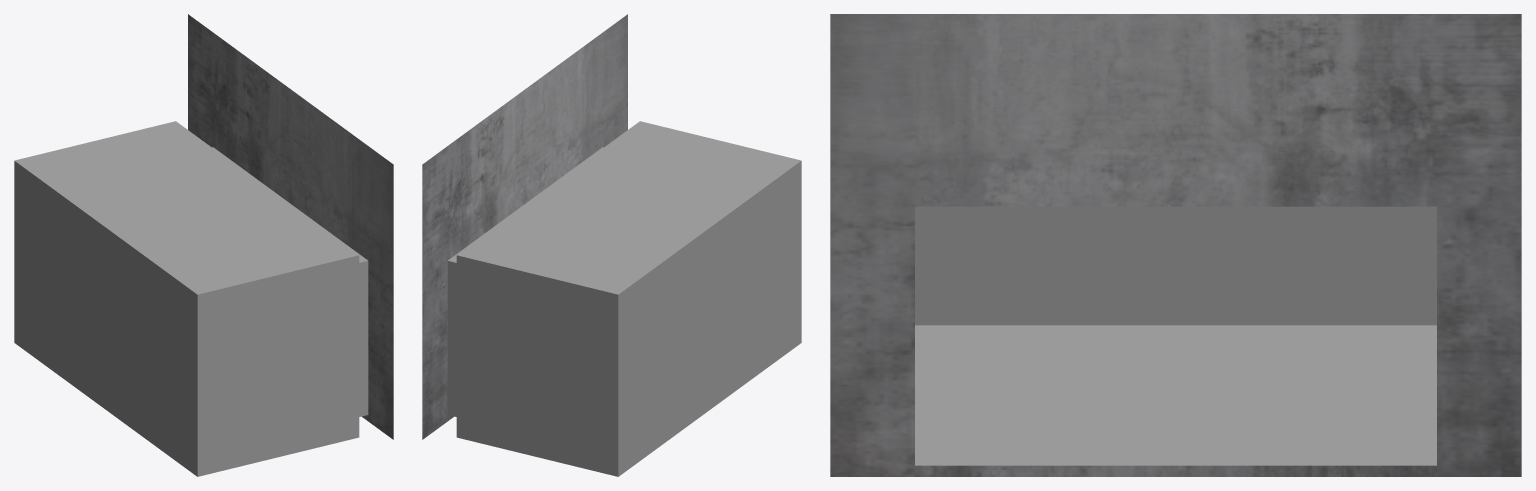
The model's file is fbx_wall_s1_market2.fbx.
3 views of the same model, side by side, from view 1: azimuth 30°, elevation 25°; view 2: azimuth 150°, elevation 25°; view 3: azimuth 270°, elevation 25° (orthographic). The views are drawn at different scales.
Parts seen in each view (by area): view 1: fbx_wall_s1_market2; view 2: fbx_wall_s1_market2; view 3: fbx_wall_s1_market2.
Boxes of the visible parts, <box> form: fbx_wall_s1_market2: <box>14,14,393,476</box>; fbx_wall_s1_market2: <box>422,14,801,476</box>; fbx_wall_s1_market2: <box>830,14,1521,476</box>.
Bounding box in the file's own units: 2.45 × 3.48 × 4.71.
Materials: 2 (1 with a texture image).
